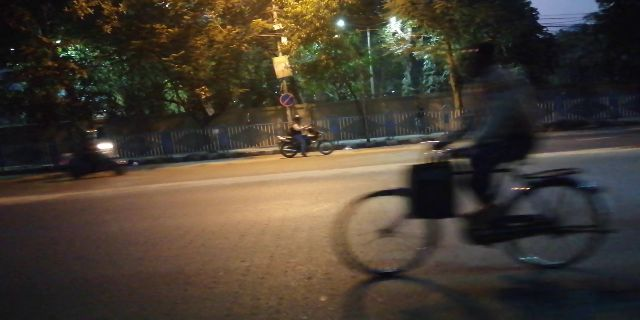Cycle: (333, 43, 611, 278)
Motorbike: (56, 118, 132, 179), (273, 115, 337, 160)
